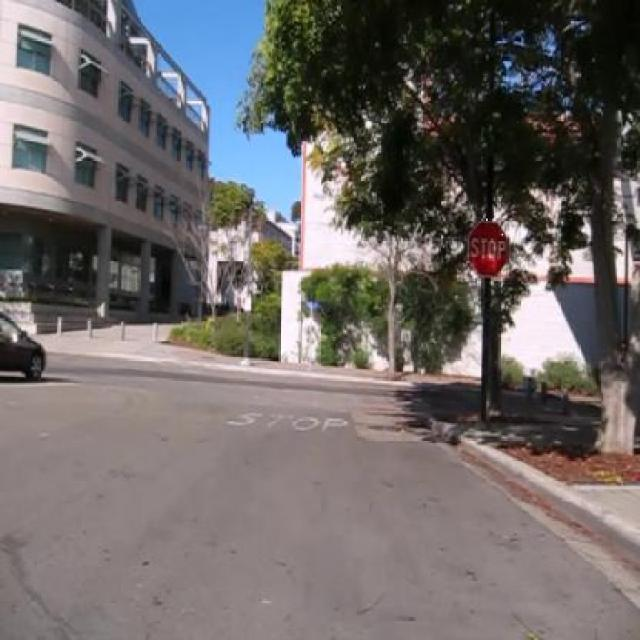stop: (468, 218, 510, 277)
